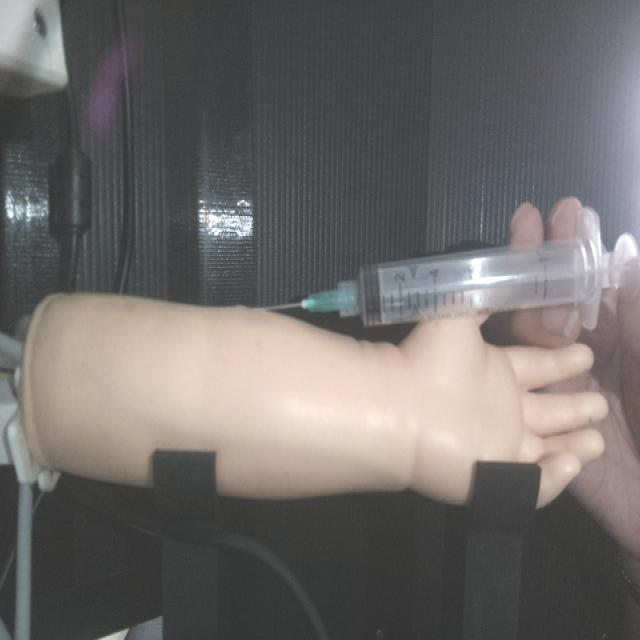Below 15 degrees: (262, 204, 637, 332)
